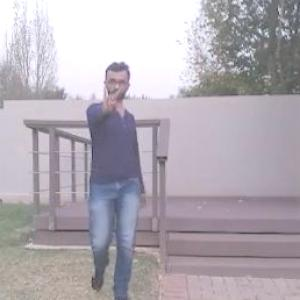takeoff-hand: (93, 79, 134, 127)
